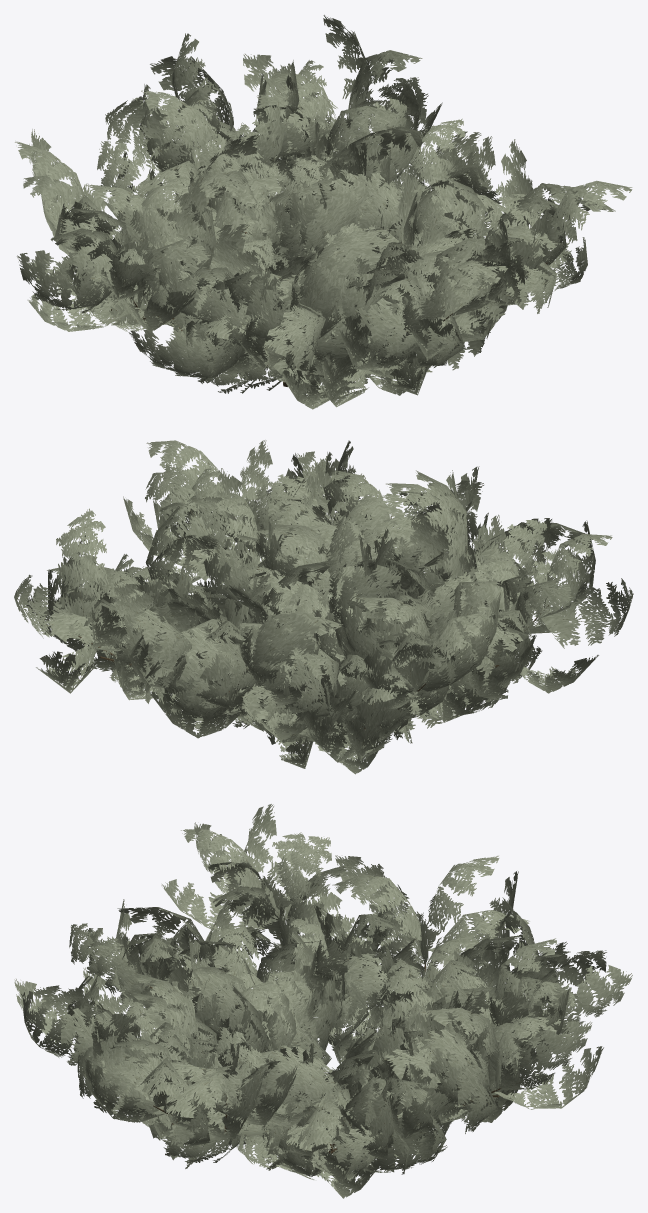
Rendered from SM_CN_Sage_C.fbx.
3 renders of one model, top to bottom at view 1: azimuth 30°, elevation 25°; view 2: azimuth 150°, elevation 25°; view 3: azimuth 270°, elevation 25°, orthographic. The views are drawn at different scales.
Visible parts, largest first — view 1: SM_CN_Sage_C; view 2: SM_CN_Sage_C; view 3: SM_CN_Sage_C.
Part boxes in pixels (bbox=[...]): SM_CN_Sage_C: bbox=[15, 15, 632, 409]; SM_CN_Sage_C: bbox=[14, 440, 633, 774]; SM_CN_Sage_C: bbox=[14, 804, 632, 1198].
Size of the model in its own units: 0.84 by 0.8206 by 0.34.
